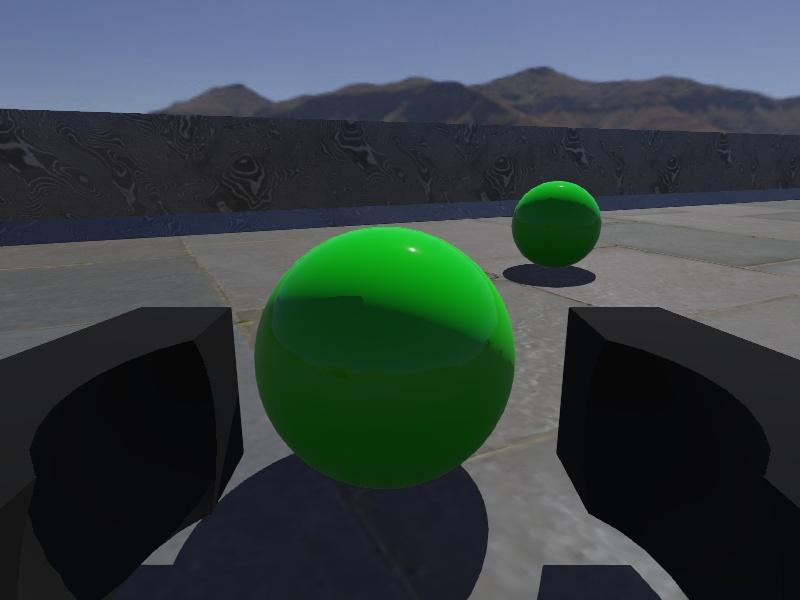green ball: (253, 225, 516, 492), (511, 178, 602, 270)
